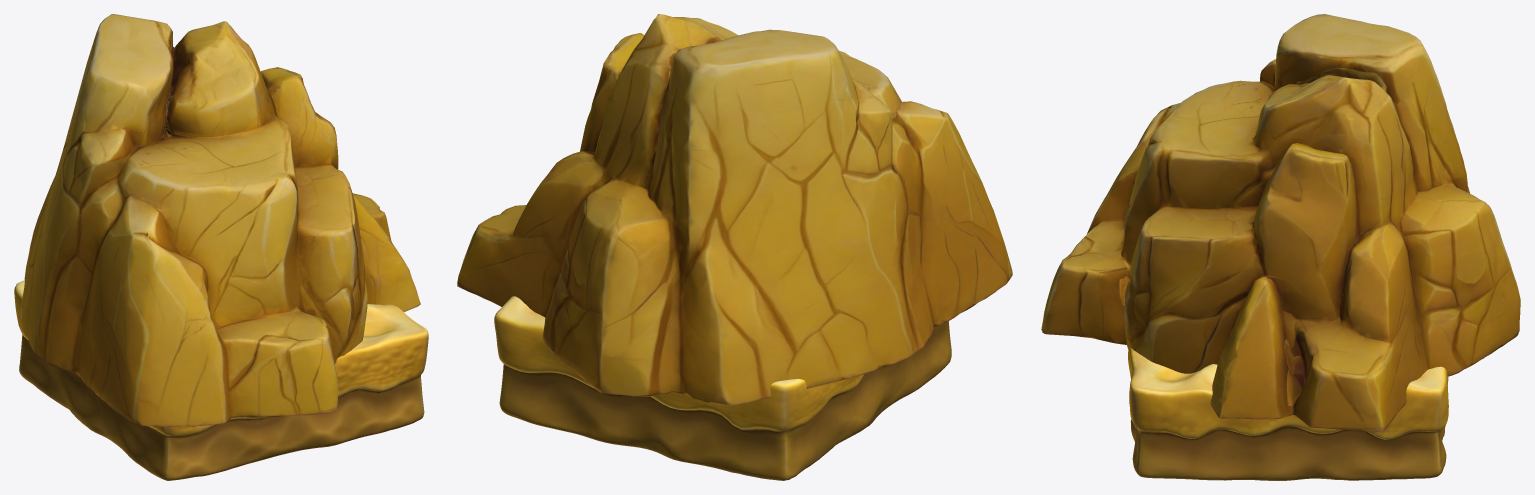
Rendered from mtn_desert.glb.
3 renders of one model, left to right at view 1: azimuth 30°, elevation 25°; view 2: azimuth 150°, elevation 25°; view 3: azimuth 270°, elevation 25°, orthographic. The views are drawn at different scales.
Visible parts, largest first — view 1: Mesh1.0, Mesh0; view 2: Mesh1.0, Mesh0; view 3: Mesh1.0, Mesh0.
Part boxes in pixels (box(x1,y1,x2,y2)): Mesh1.0: box(21, 14, 420, 426); Mesh0: box(14, 280, 428, 480); Mesh1.0: box(457, 14, 1012, 405); Mesh0: box(494, 296, 951, 480); Mesh1.0: box(1041, 14, 1520, 432); Mesh0: box(1128, 345, 1448, 480).
Bounding box in the file's own units: 2.58 × 2.34 × 2.84.
2 materials, 2 textured.
